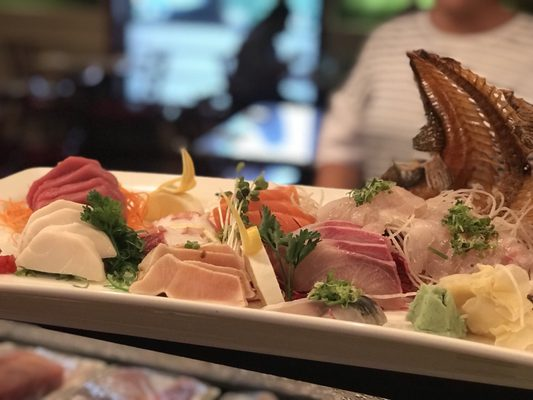curry: (80, 190, 145, 290), (405, 283, 468, 338), (441, 202, 498, 255)
